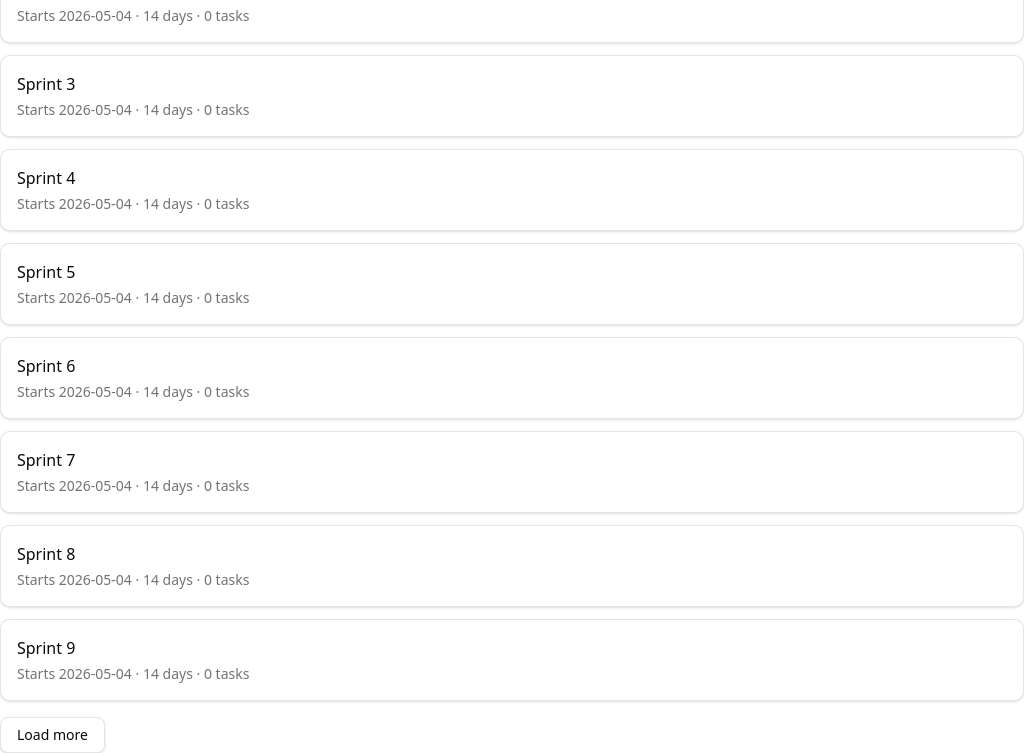
Scenario: PublicSprints › pages the list with Load more
(page scrolled)
Check: the text "Sprint 11" is not shown
Click the button "Load more" at (52, 735), box [0, 717, 105, 752]
(page scrolled)
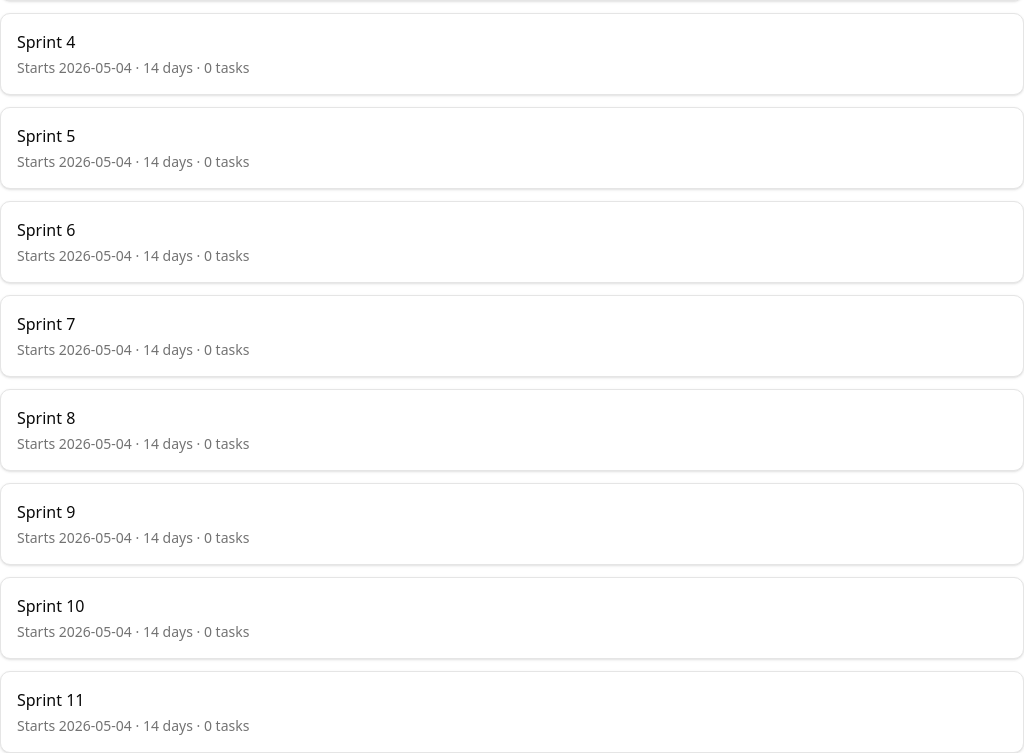
Check: the heading "Sprint 11" is shown, box [17, 689, 84, 711]
